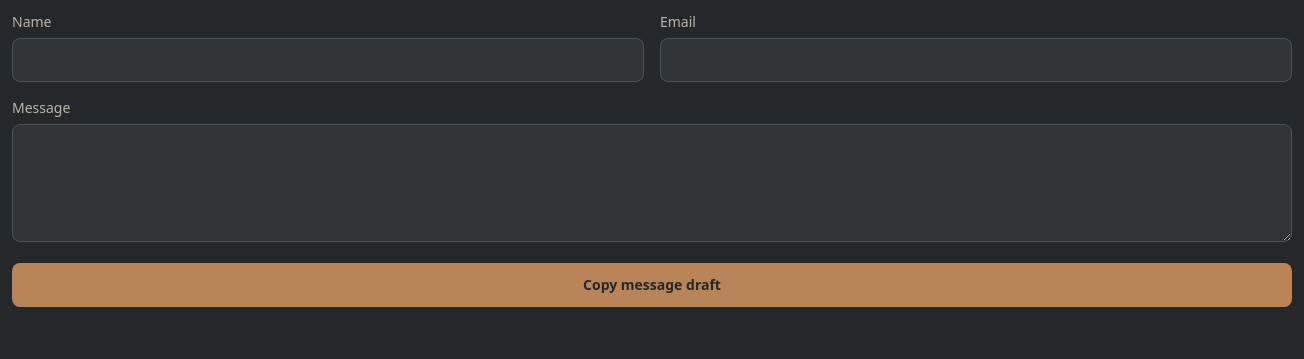
it: ContactDraftForm › copies a localized en draft without sending it
The image size is (1304, 359).
In the field labelled "Name": (328,60) [12, 38, 644, 82], type "Rin"
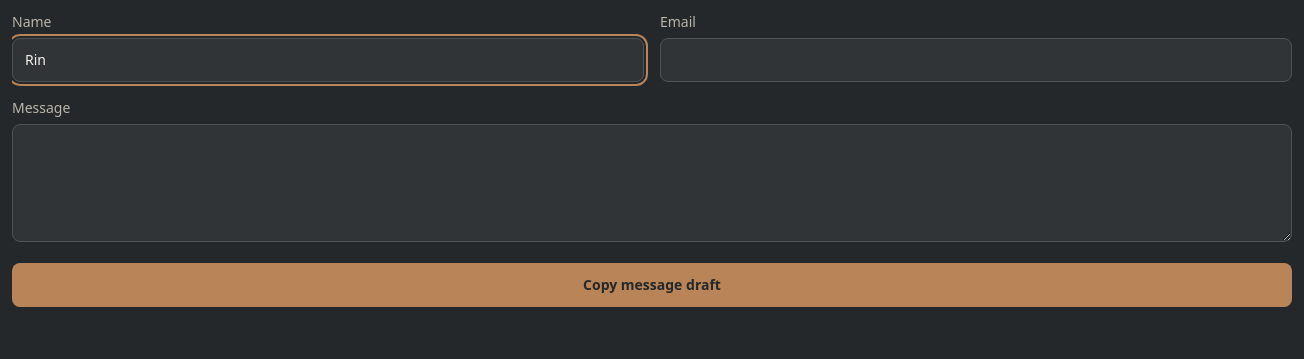
In the field labelled "Email": (976,60) [660, 38, 1292, 82], type "rin@example.com"
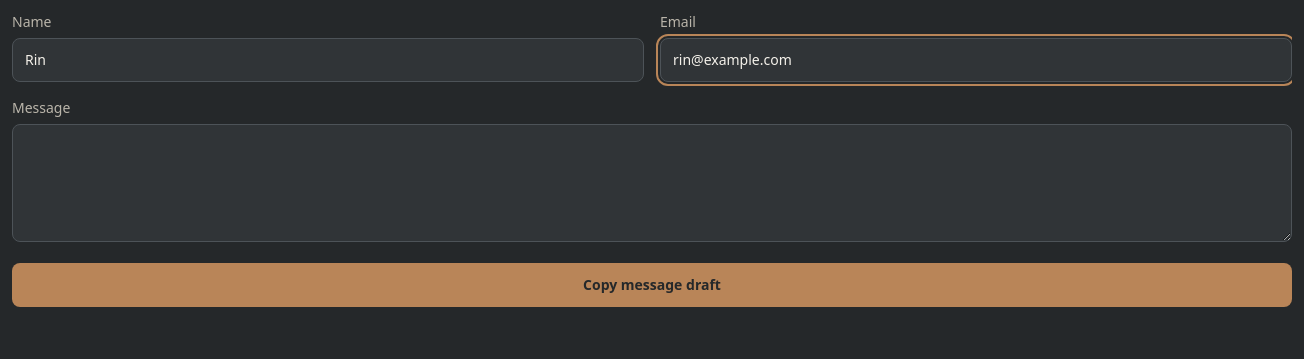
In the text box labelled "Message": (652,183) [12, 124, 1292, 242], type "Halo"
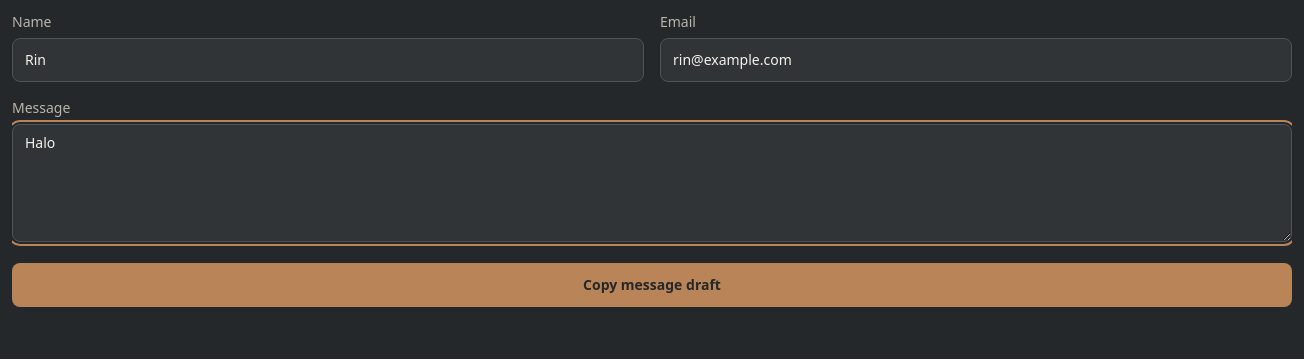
Click the button "Copy message draft": (652,285) [12, 263, 1292, 307]
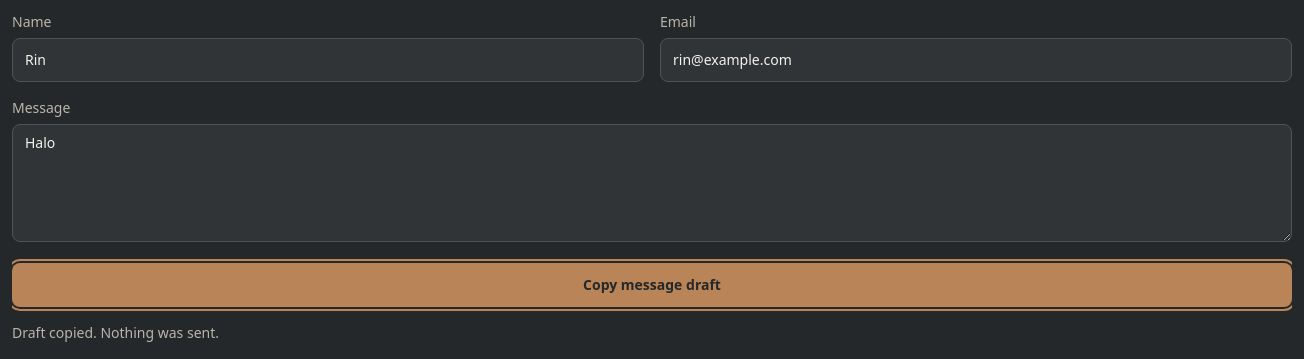
Result: the message reads "Draft copied. Nothing was sent." at [12, 323, 219, 342]
